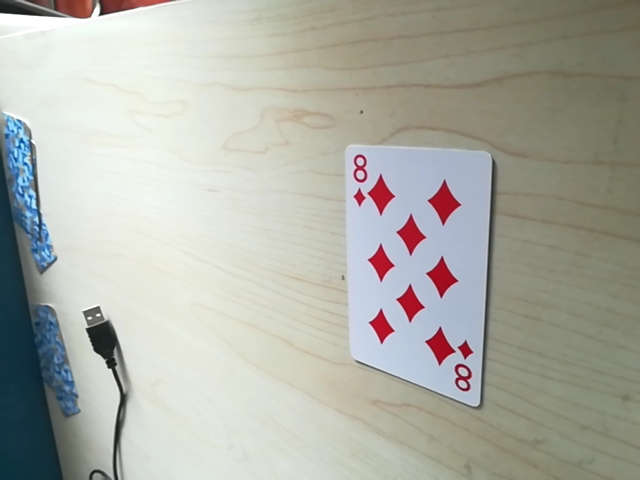fk 8: (344, 149, 379, 207), (445, 344, 479, 401)
